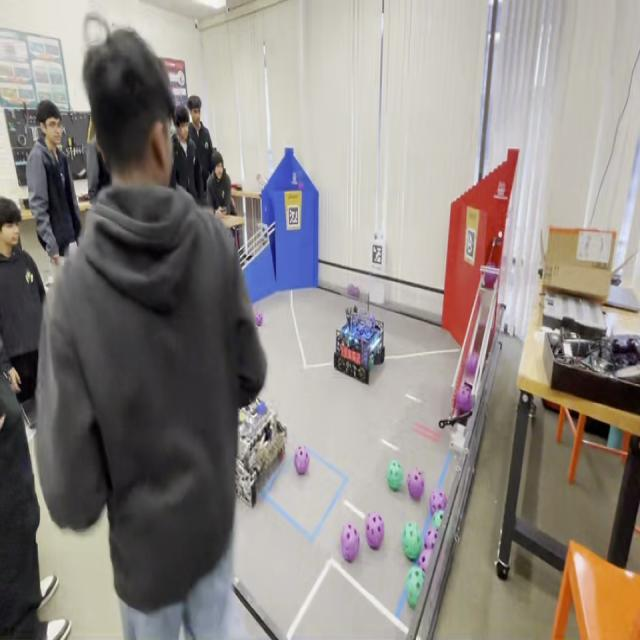artifact_green: (406, 566, 424, 609), (402, 522, 422, 560), (387, 460, 403, 491), (431, 510, 444, 530), (369, 354, 374, 369)
artifact_purple: (342, 524, 359, 562), (366, 514, 384, 549), (408, 469, 424, 500), (456, 384, 473, 413), (294, 446, 309, 475), (430, 490, 447, 515), (418, 548, 432, 572), (466, 352, 478, 376), (424, 528, 437, 549), (484, 273, 497, 289), (348, 284, 359, 297), (256, 313, 263, 327)
